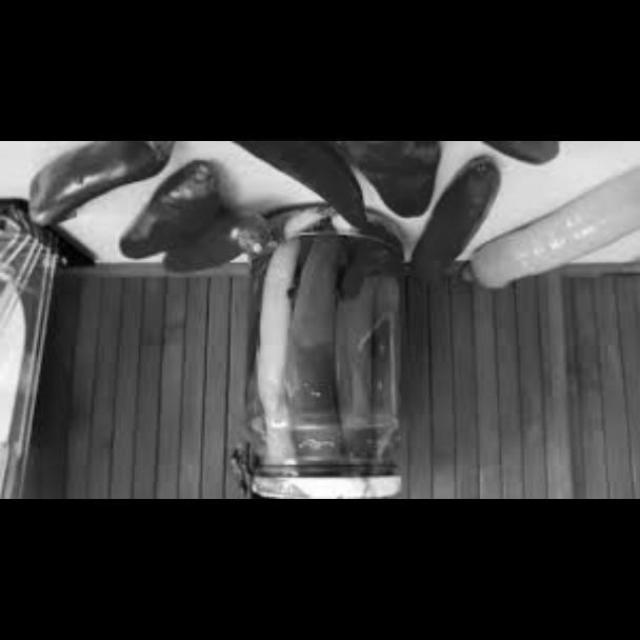ot cay: (248, 222, 406, 486), (457, 168, 640, 306), (11, 142, 185, 238), (227, 143, 379, 245), (408, 158, 504, 298), (111, 158, 222, 265), (150, 204, 275, 284), (341, 143, 444, 232), (470, 143, 572, 180)
